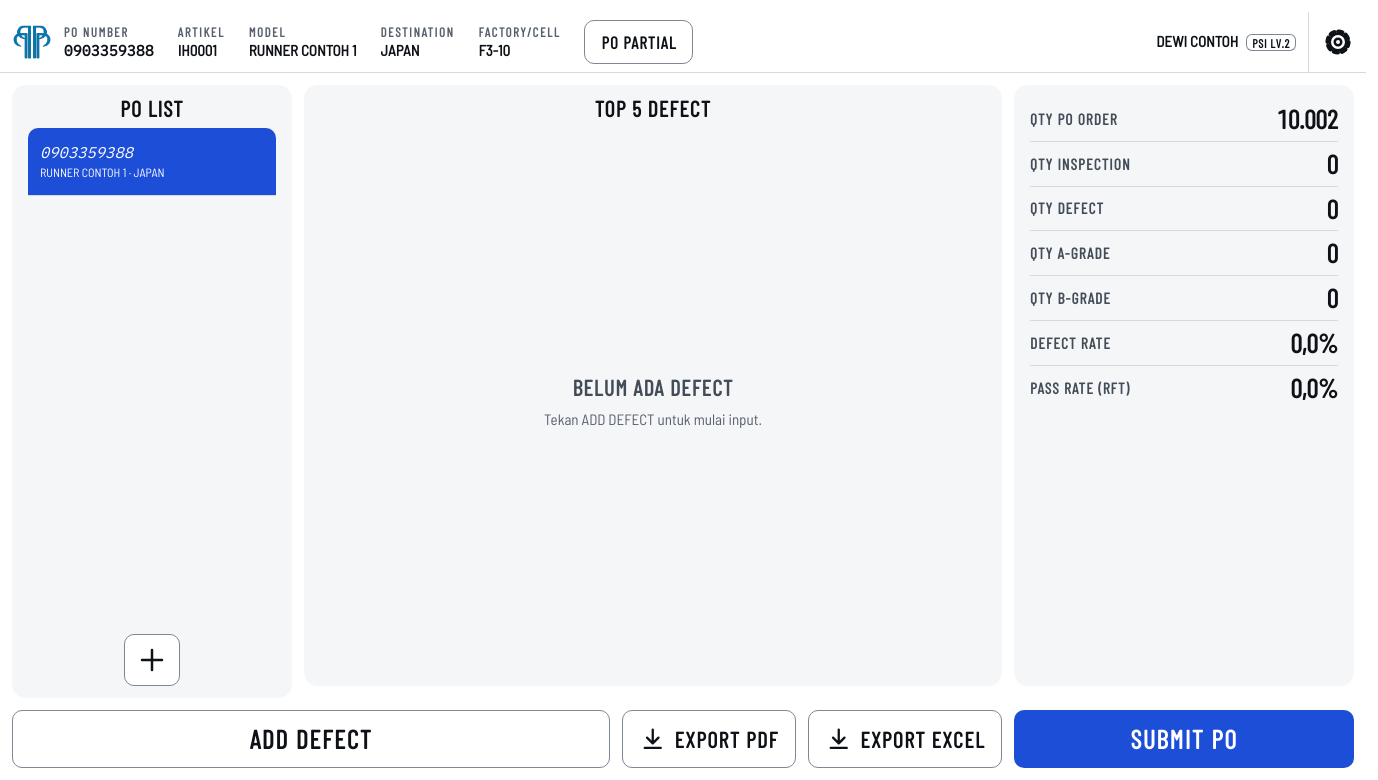
Test: EXPORT PDF / EXPORT EXCEL (FR-12, doc 05 §8.5) › says so when the file cannot be made
Click the button "EXPORT EXCEL" at (905, 739), box [808,710,1002,768]
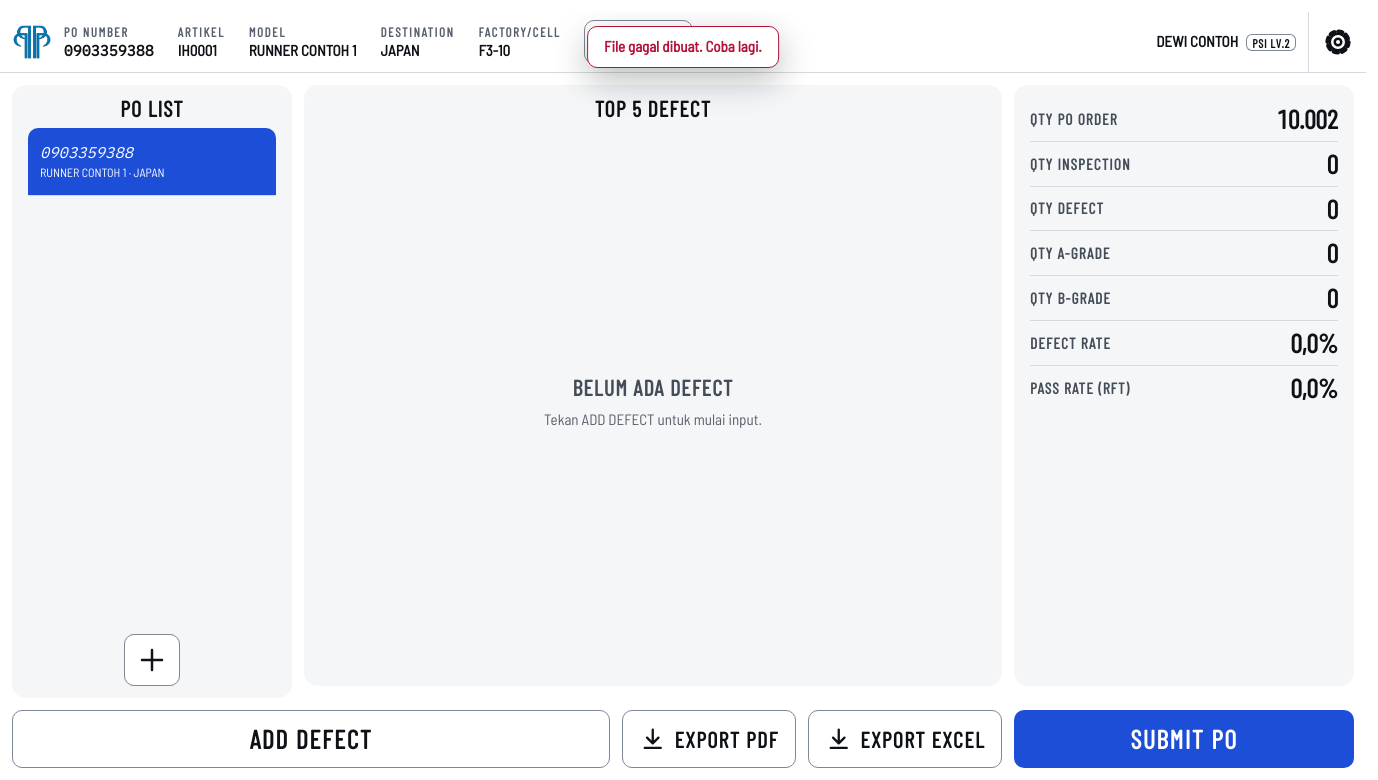
Now the text "File gagal dibuat. Coba lagi." is shown, box [587,26,779,68]
